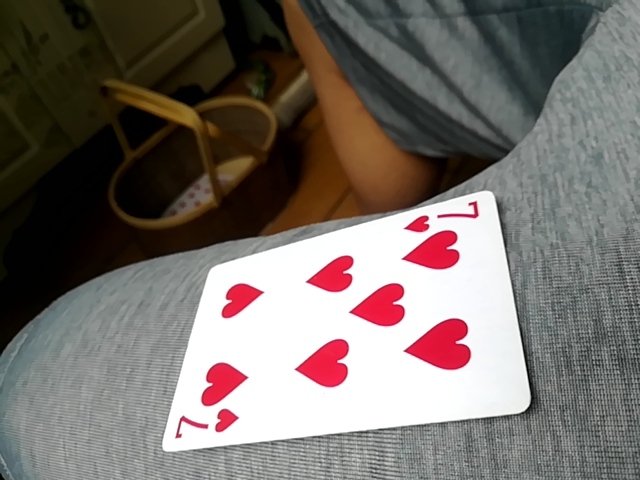hx 7: (171, 189, 533, 454)
